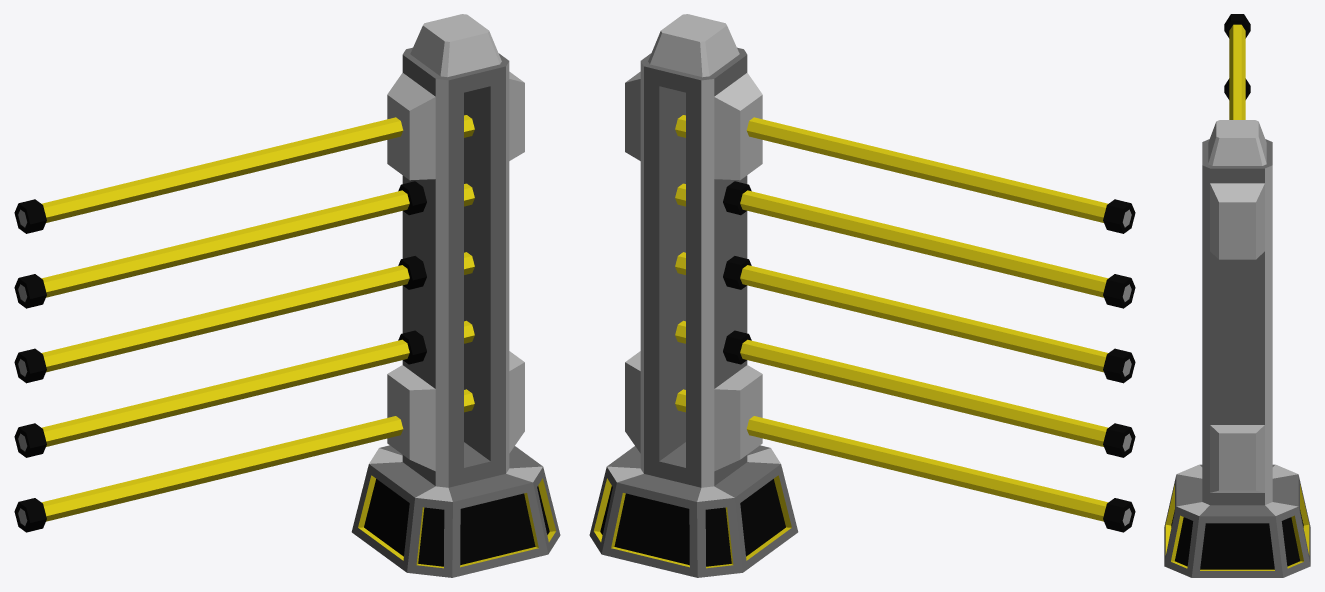
File: WallN2.fbx
3 renders of one model, left to right at view 1: azimuth 30°, elevation 25°; view 2: azimuth 150°, elevation 25°; view 3: azimuth 270°, elevation 25°, orthographic. The views are drawn at different scales.
Visible parts, largest first — view 1: Plane.004; view 2: Plane.004; view 3: Plane.004.
Part boxes in pixels (box(x1,y1,x2,y2)): Plane.004: box(14, 14, 560, 577); Plane.004: box(589, 14, 1135, 577); Plane.004: box(1164, 14, 1310, 577).
Bounding box in the file's own units: 171 × 162 × 51.48.
